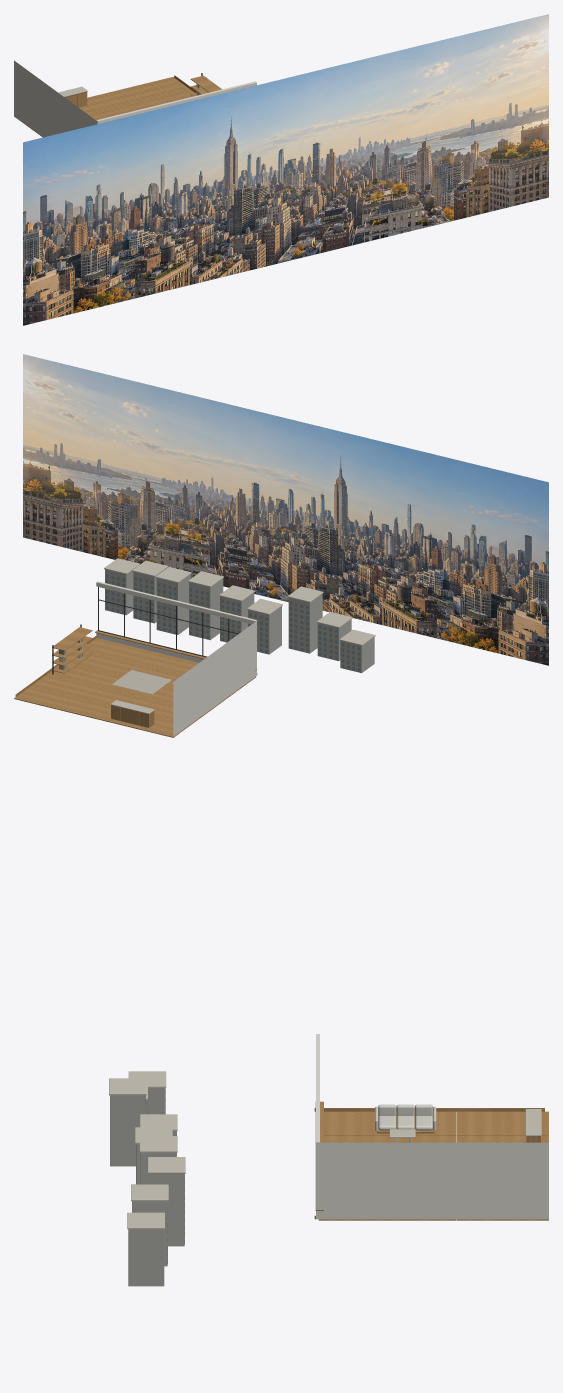
File: nyc-apartment.glb
The picture shows the model from 3 angles, top to bottom: view 1: azimuth 30°, elevation 25°; view 2: azimuth 150°, elevation 25°; view 3: azimuth 270°, elevation 25°; orthographic projection. The views are drawn at different scales.
Visible parts, largest first — view 1: Manhattan skyline, West plaster wall, Window head; view 2: Manhattan skyline, West plaster wall, Nearby rooftop building.002, Nearby rooftop building.005, Nearby rooftop building.006, Nearby rooftop building.003, Window head, Nearby rooftop building.008, Nearby rooftop building, Nearby rooftop building.004, Central wool rug, Nearby rooftop building.007 (+2 smaller); view 3: East plaster wall, Nearby rooftop building.008, Nearby rooftop building.002, Nearby rooftop building.006.
Boxes of the visible parts, bbox=[...] form: Manhattan skyline: bbox=[23, 14, 548, 325]; West plaster wall: bbox=[14, 60, 96, 137]; Window head: bbox=[96, 81, 256, 124]; Manhattan skyline: bbox=[23, 354, 548, 665]; West plaster wall: bbox=[173, 622, 256, 736]; Nearby rooftop building.002: bbox=[288, 594, 322, 653]; Nearby rooftop building.005: bbox=[189, 578, 223, 640]; Nearby rooftop building.006: bbox=[156, 574, 190, 634]; Nearby rooftop building.003: bbox=[248, 606, 281, 654]; Window head: bbox=[96, 581, 256, 624]; Nearby rooftop building.008: bbox=[105, 569, 133, 615]; Nearby rooftop building: bbox=[340, 637, 374, 673]; Nearby rooftop building.004: bbox=[220, 593, 254, 642]; Central wool rug: bbox=[112, 670, 171, 694]; Nearby rooftop building.007: bbox=[133, 568, 166, 623]; East plaster wall: bbox=[316, 1142, 548, 1219]; Nearby rooftop building.008: bbox=[128, 1229, 164, 1286]; Nearby rooftop building.002: bbox=[110, 1095, 145, 1166]; Nearby rooftop building.006: bbox=[149, 1174, 184, 1246].
Bounding box in the file's own units: 66 × 22 × 41.8.
Materials: 15 (3 with a texture image).
